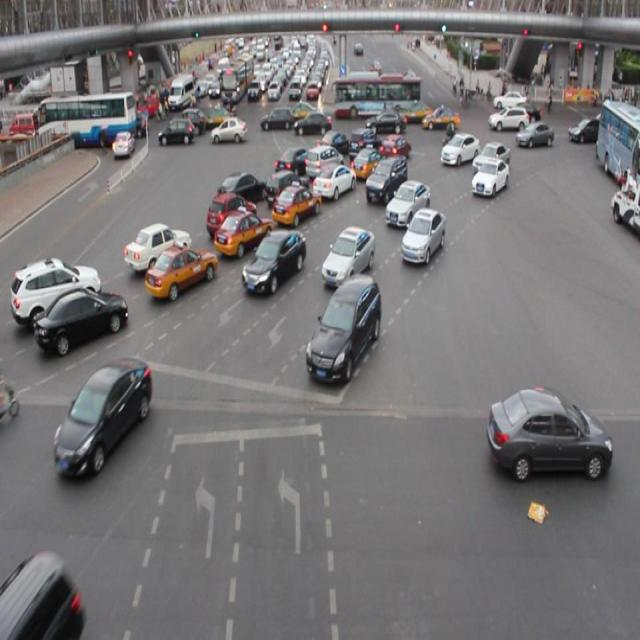car: (54, 358, 152, 479), (488, 386, 609, 479), (306, 275, 378, 382), (0, 548, 80, 640), (10, 256, 101, 324), (36, 288, 128, 351), (243, 228, 305, 296), (146, 245, 217, 298), (214, 205, 273, 258), (124, 222, 190, 268), (320, 227, 373, 284), (400, 208, 446, 264), (206, 193, 258, 240), (386, 179, 430, 229), (272, 184, 321, 226), (364, 156, 406, 205), (265, 171, 310, 213), (310, 164, 356, 201), (217, 173, 267, 206), (470, 157, 507, 195), (439, 132, 479, 165), (274, 146, 314, 178), (348, 127, 382, 163), (472, 140, 509, 172), (350, 144, 384, 177), (378, 134, 412, 166), (516, 120, 552, 150), (316, 129, 348, 159)
truck: (306, 144, 343, 178)
